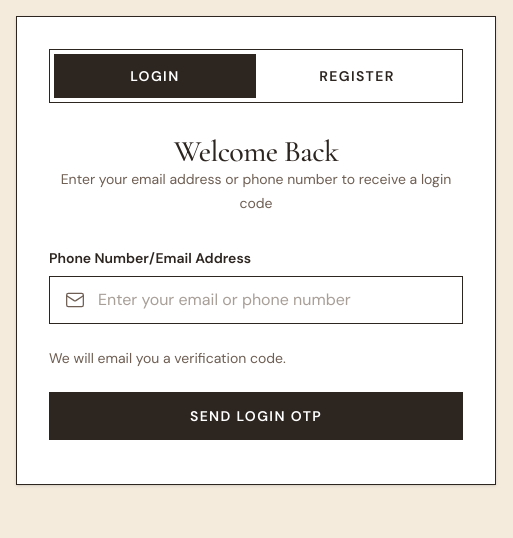
it: CustomerLoginForm › allows correction of a wrong phone code and resets an expired backend verification
In the field with placeholder "Enter your email or phone number": (256, 300) left=49, top=276, right=463, bottom=324, type "9876543210"
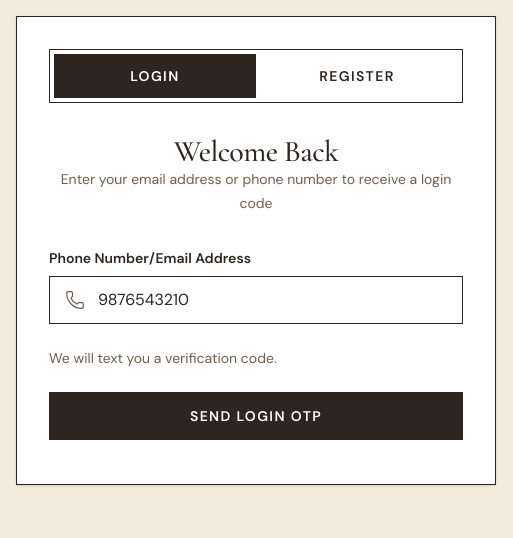
Click the button "SEND LOGIN OTP": (256, 416) left=49, top=392, right=463, bottom=440
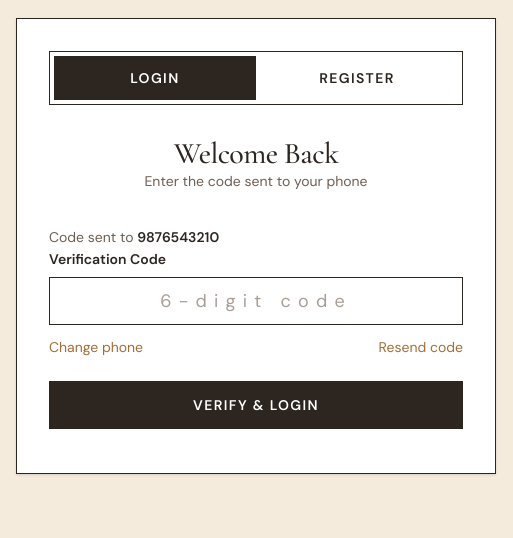
In the field with placeholder "6-digit code": (256, 301) left=49, top=277, right=463, bottom=325, type "123456"
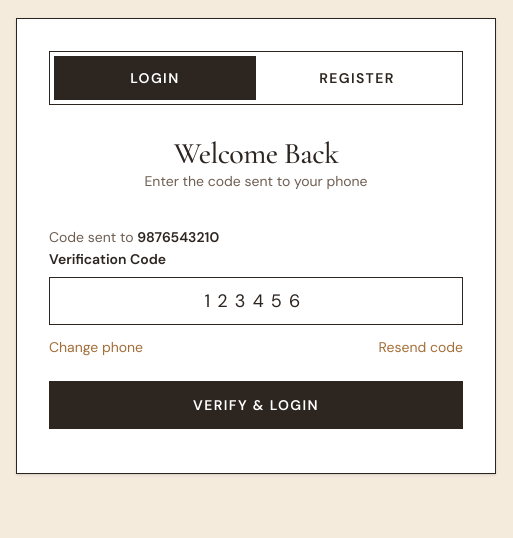
Submit the form with placeholder "6-digit code", box left=49, top=226, right=463, bottom=429
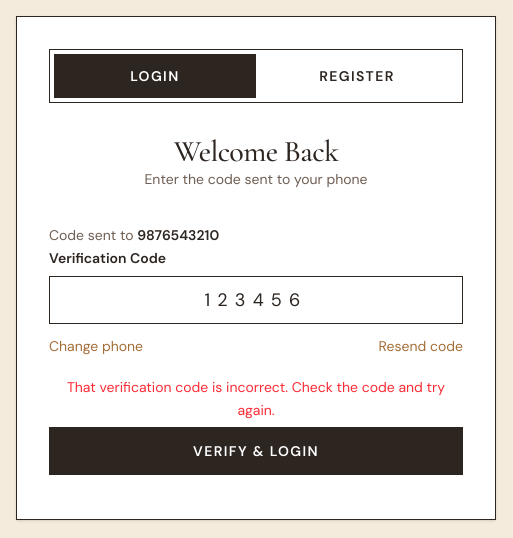
Submit the form with placeholder "6-digit code", box left=49, top=224, right=463, bottom=475
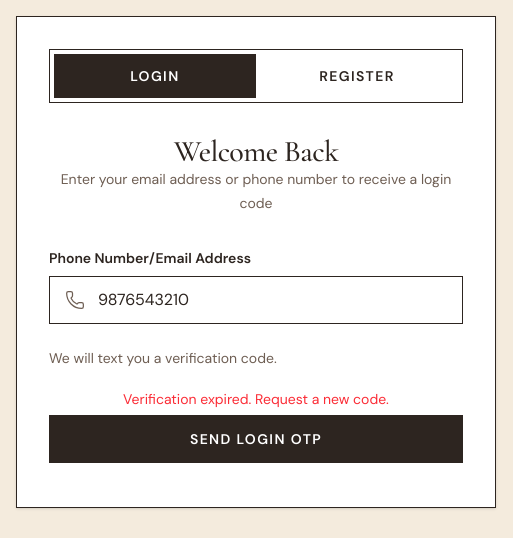
Expected: the field with placeholder "Enter your email or phone number" is shown, left=49, top=276, right=463, bottom=324
